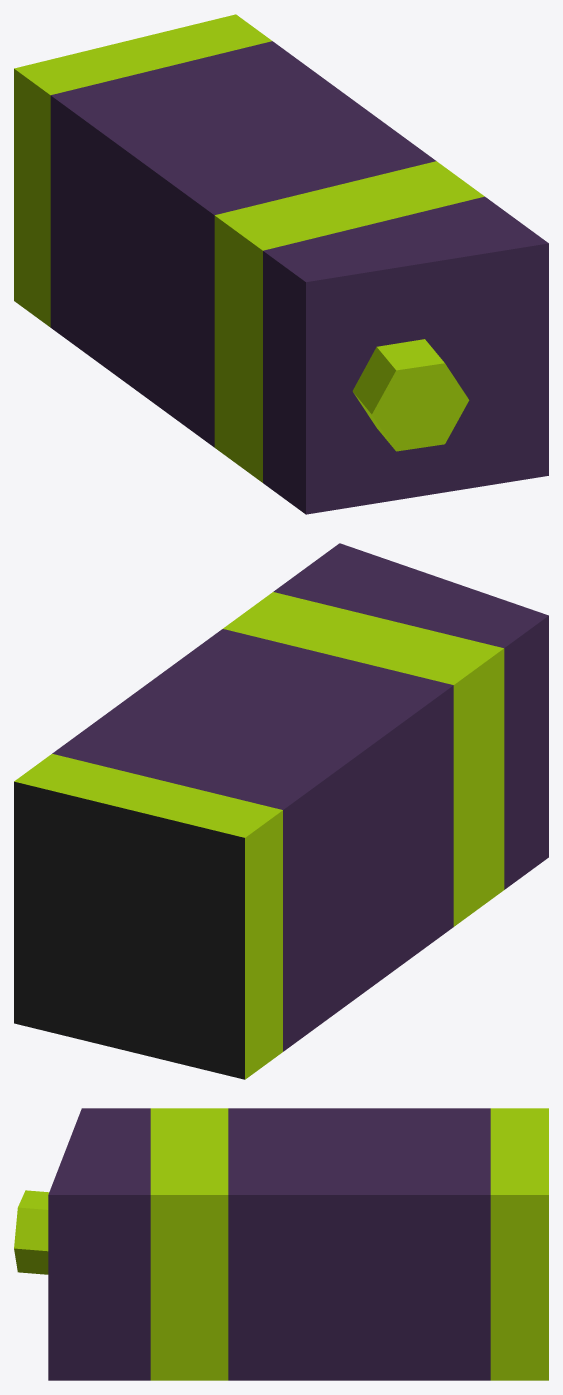
The model's file is GrapeJuice_3D.glb.
3 views of the same model, one above another, from view 1: azimuth 30°, elevation 25°; view 2: azimuth 150°, elevation 25°; view 3: azimuth 270°, elevation 25° (orthographic). The views are drawn at different scales.
Parts seen in each view (by area): view 1: GrapeJuiceLowPoly; view 2: GrapeJuiceLowPoly; view 3: GrapeJuiceLowPoly.
Boxes of the visible parts, x1,y1,x2,y2 form: GrapeJuiceLowPoly: (14,14,548,514); GrapeJuiceLowPoly: (14,543,548,1079); GrapeJuiceLowPoly: (14,1108,548,1380).
Size of the model in its own units: 0.1 by 0.1 by 0.2608.
1 material, 1 textured.
